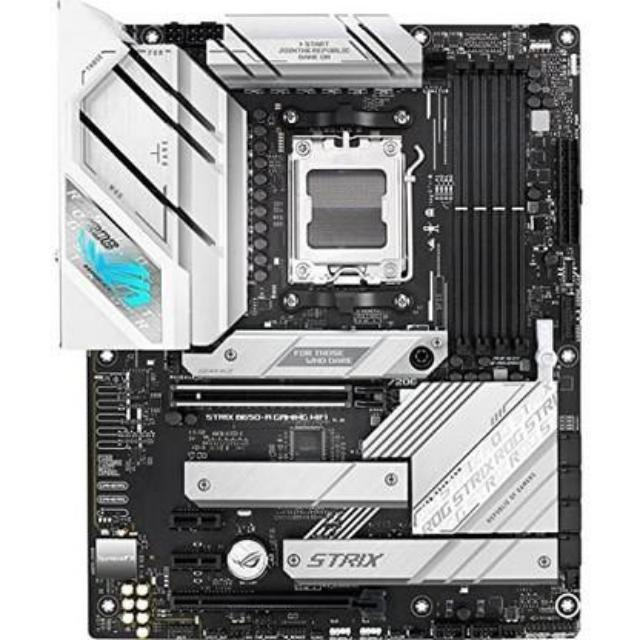Mainboard: (52, 0, 586, 638)
